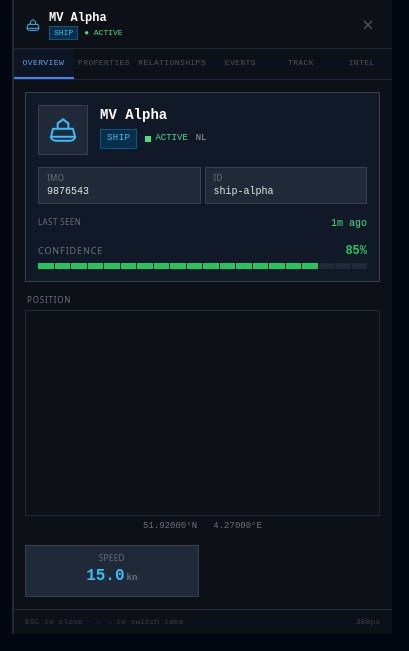
Test: entityInspector - tab content › eventsTabShowsHistoryEntries
The width and height of the screenshot is (409, 651).
Check: the 1st heading "MV Alpha" is shown, box [49, 11, 107, 25]
Click the tab "EVENTS".
click(240, 64)  # box [210, 49, 271, 79]
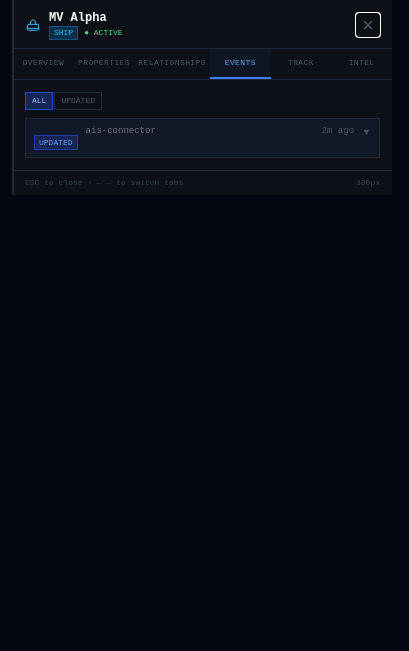
Check: the text "ais-connector" is shown, box [86, 125, 156, 138]
Check: the button "all" is shown, box [25, 92, 53, 110]
